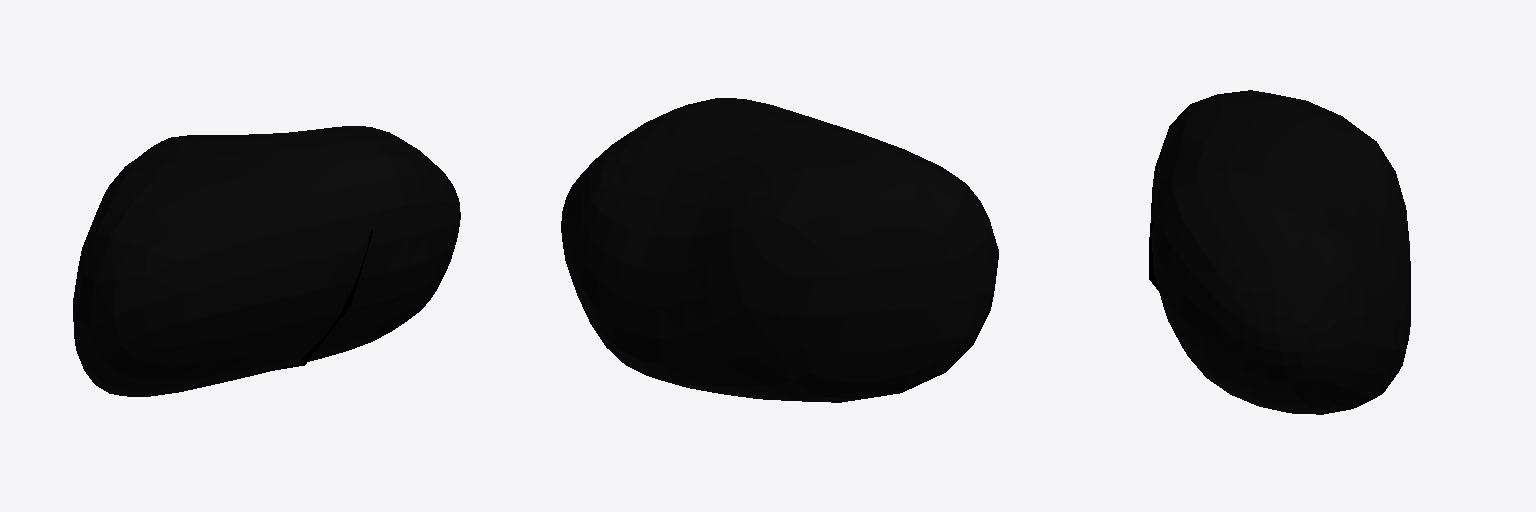
Rendered from rock2.obj.
3 renders of one model, left to right at view 1: azimuth 30°, elevation 25°; view 2: azimuth 150°, elevation 25°; view 3: azimuth 270°, elevation 25°, orthographic.
Visible parts, largest first — view 1: Cube, Plane; view 2: Cube; view 3: Cube.
Part boxes in pixels (bbox=[...]): Cube: bbox=[73, 126, 460, 396]; Plane: bbox=[274, 229, 372, 370]; Cube: bbox=[561, 98, 998, 402]; Cube: bbox=[1151, 90, 1410, 414].
Bounding box in the file's own units: 3.35 × 1.92 × 1.93.